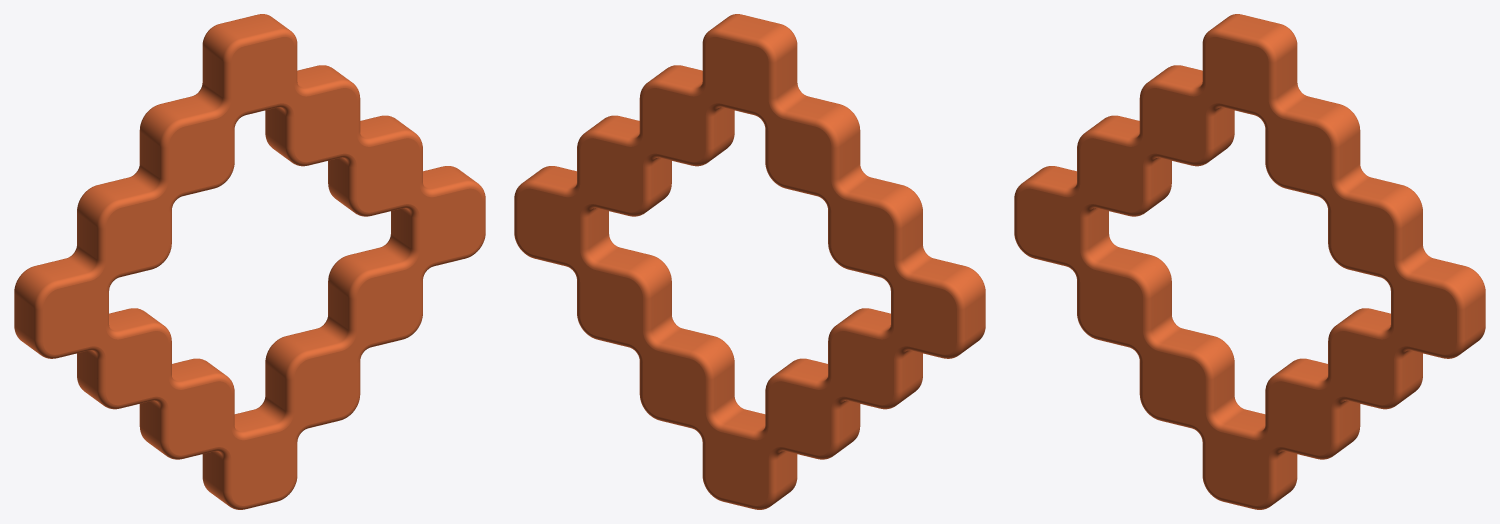
3 views of the same model, side by side, from view 1: azimuth 30°, elevation 25°; view 2: azimuth 150°, elevation 25°; view 3: azimuth 330°, elevation 25° (orthographic).
Parts seen in each view (by area): view 1: Curve; view 2: Curve; view 3: Curve.
Boxes of the visible parts, x1,y1,x2,y2 form: Curve: (14, 14, 485, 509); Curve: (514, 14, 985, 509); Curve: (1014, 14, 1485, 509).
Size of the model in its own units: 2.68 by 2.68 by 0.2642.
